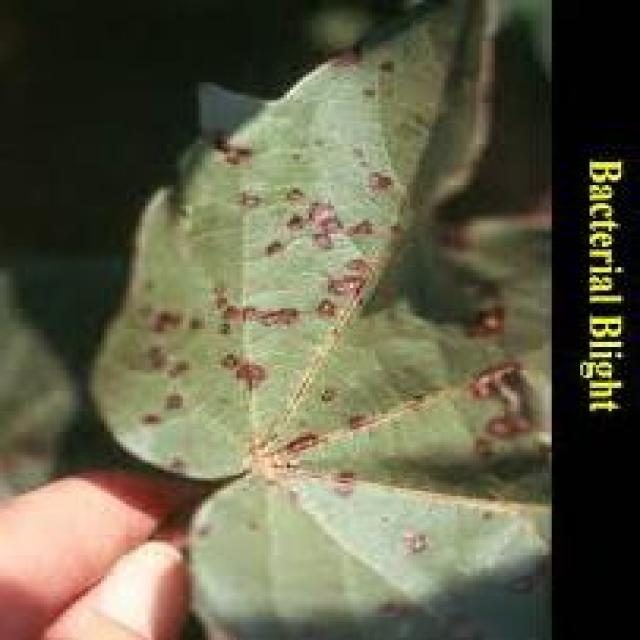Bacterial Blight: (208, 118, 428, 562)
